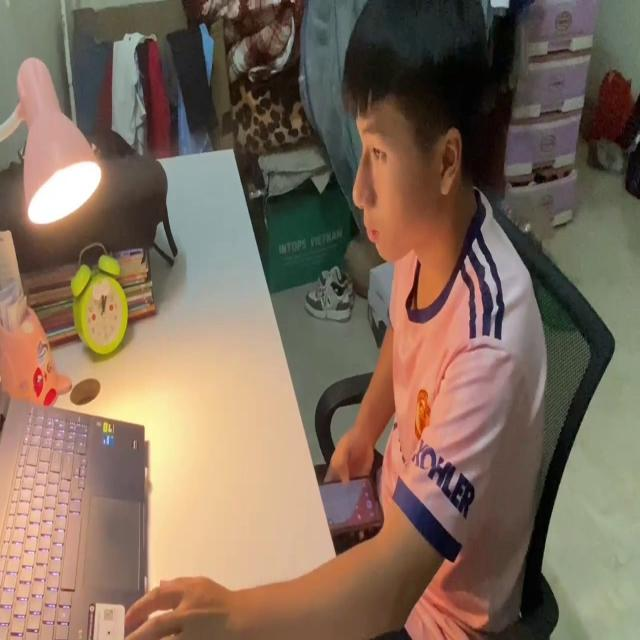laptop: (1, 384, 149, 640)
phone: (318, 474, 384, 536)
student: (121, 0, 551, 640)
